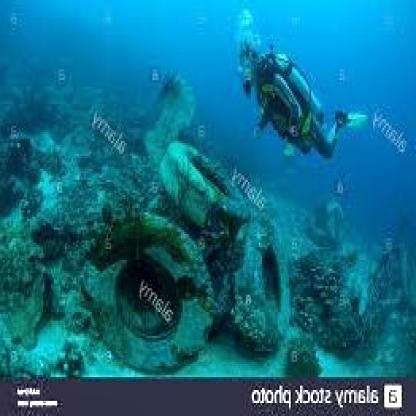tire: (91, 195, 208, 373), (151, 134, 252, 252), (236, 212, 298, 356)
